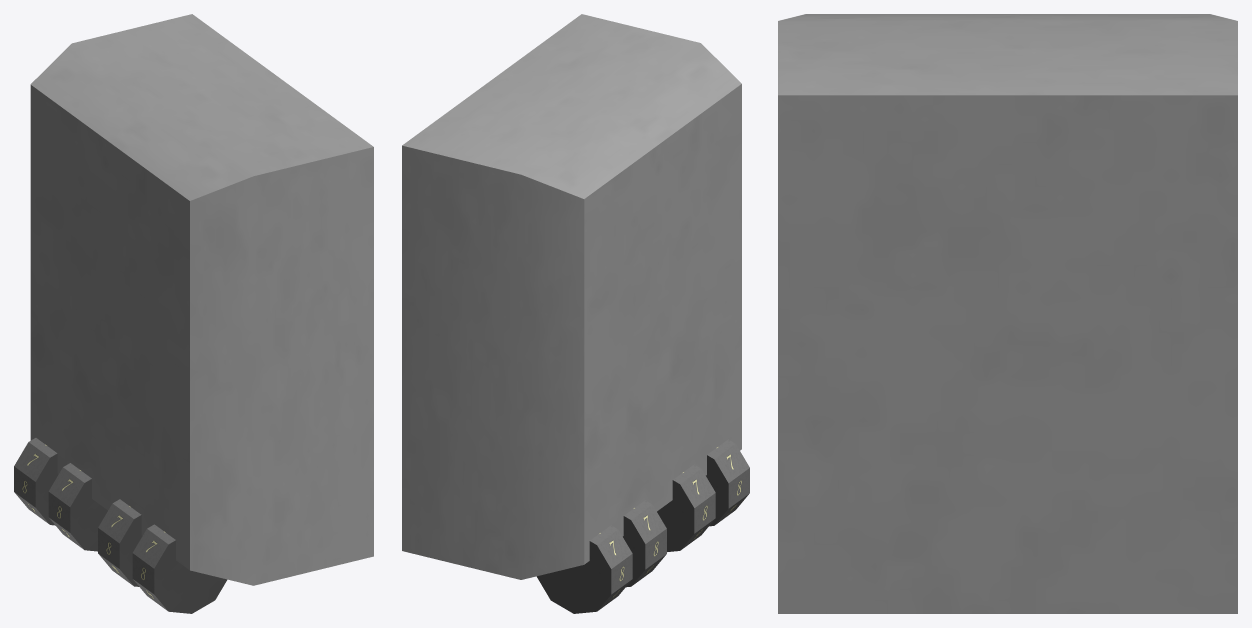
The model's file is code_lock.fbx.
3 views of the same model, side by side, from view 1: azimuth 30°, elevation 25°; view 2: azimuth 150°, elevation 25°; view 3: azimuth 270°, elevation 25° (orthographic). The views are drawn at different scales.
Visible parts, largest first — view 1: Lockpick_NoKey, Lockpick_NumSeq.003, Lockpick_NumSeq.001, Lockpick_NumSeq.002, Lockpick_NumSeq; view 2: Lockpick_NoKey, Lockpick_NumSeq, Lockpick_NumSeq.002, Lockpick_NumSeq.001, Lockpick_NumSeq.003; view 3: Lockpick_NoKey.
Part boxes in pixels (x1=…): Lockpick_NoKey: x1=30, y1=14, x2=373, y2=585; Lockpick_NumSeq.003: x1=132, y1=524, x2=227, y2=613; Lockpick_NumSeq.001: x1=48, y1=463, x2=107, y2=551; Lockpick_NumSeq.002: x1=98, y1=499, x2=142, y2=586; Lockpick_NumSeq: x1=14, y1=438, x2=58, y2=525; Lockpick_NoKey: x1=402, y1=14, x2=741, y2=579; Lockpick_NumSeq: x1=536, y1=525, x2=632, y2=613; Lockpick_NumSeq.002: x1=657, y1=464, x2=715, y2=551; Lockpick_NumSeq.001: x1=623, y1=500, x2=666, y2=587; Lockpick_NumSeq.003: x1=706, y1=439, x2=749, y2=526; Lockpick_NoKey: x1=778, y1=14, x2=1237, y2=613.
Size of the model in its own units: 19.9 by 43.62 by 32.12.
Materials: 2 (2 with a texture image).
